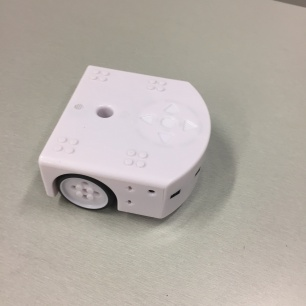thymio: (29, 58, 221, 223)
